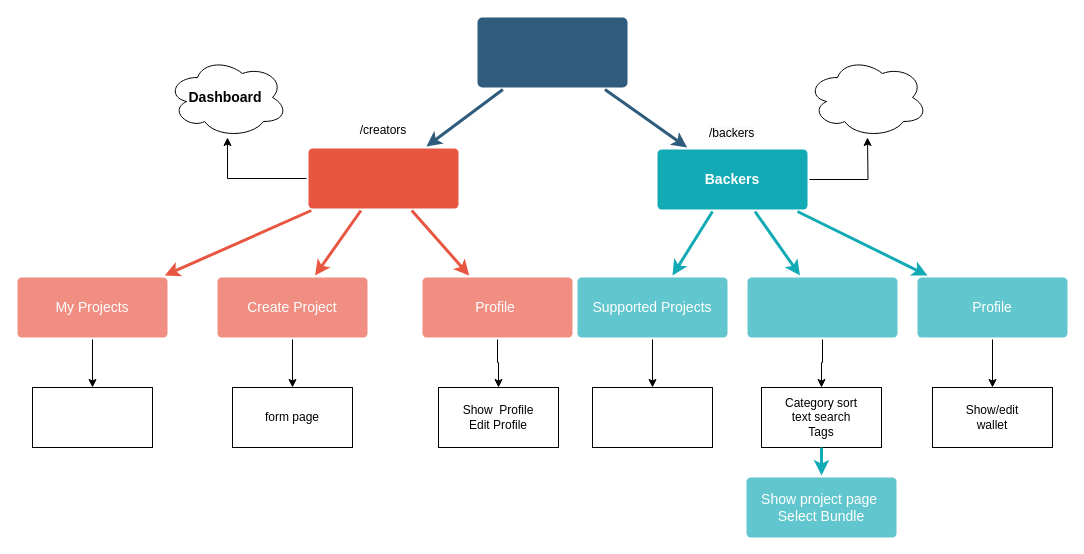
The diagram is 1084 pixels wide and 554 high, and some of its shapes have lost their labels. Here are the shapes that lost their labels. From the top down, the box of each, then its label:
(477, 17, 627, 87): Platform -Home
(806, 56, 928, 138): Show trending projects
(308, 148, 458, 208): Creators
(747, 277, 897, 337): Browse Projects
(32, 386, 152, 448): Show list of projects Edit project Show progress
(592, 386, 712, 448): Show Progress
